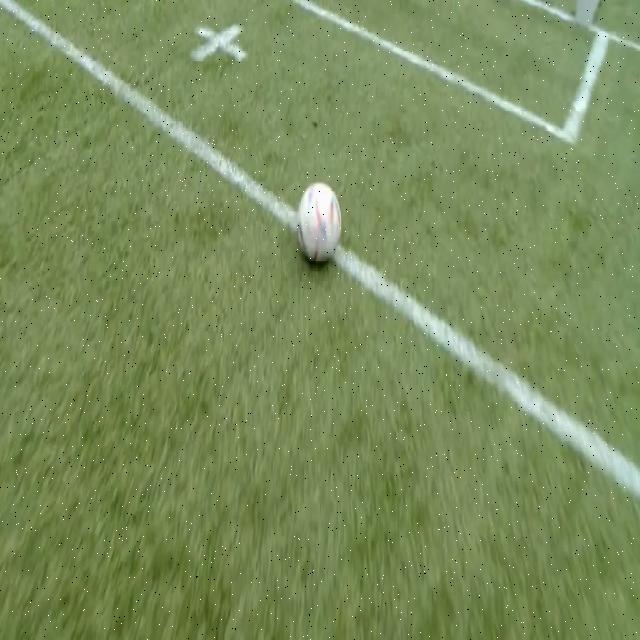ball: (297, 183, 341, 262)
goalpost: (568, 4, 602, 37)
